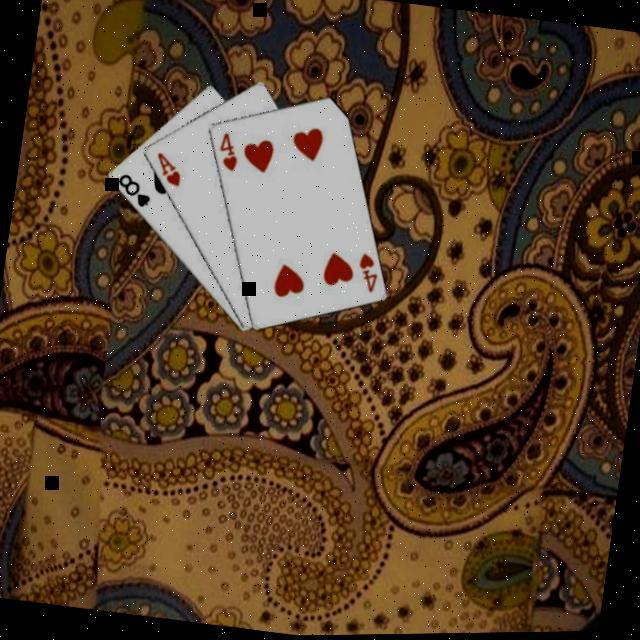4H: (353, 252, 385, 300), (214, 131, 245, 178)
8S: (113, 172, 157, 214)
AH: (151, 151, 188, 193)
